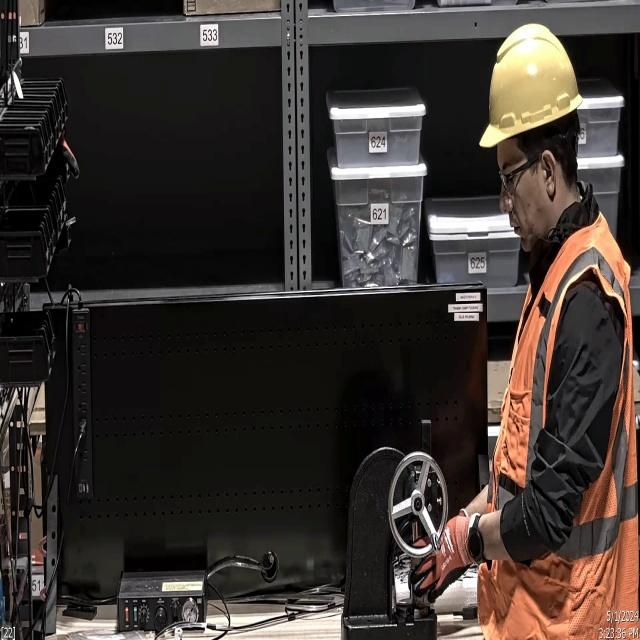gloves: (406, 506, 478, 615)
